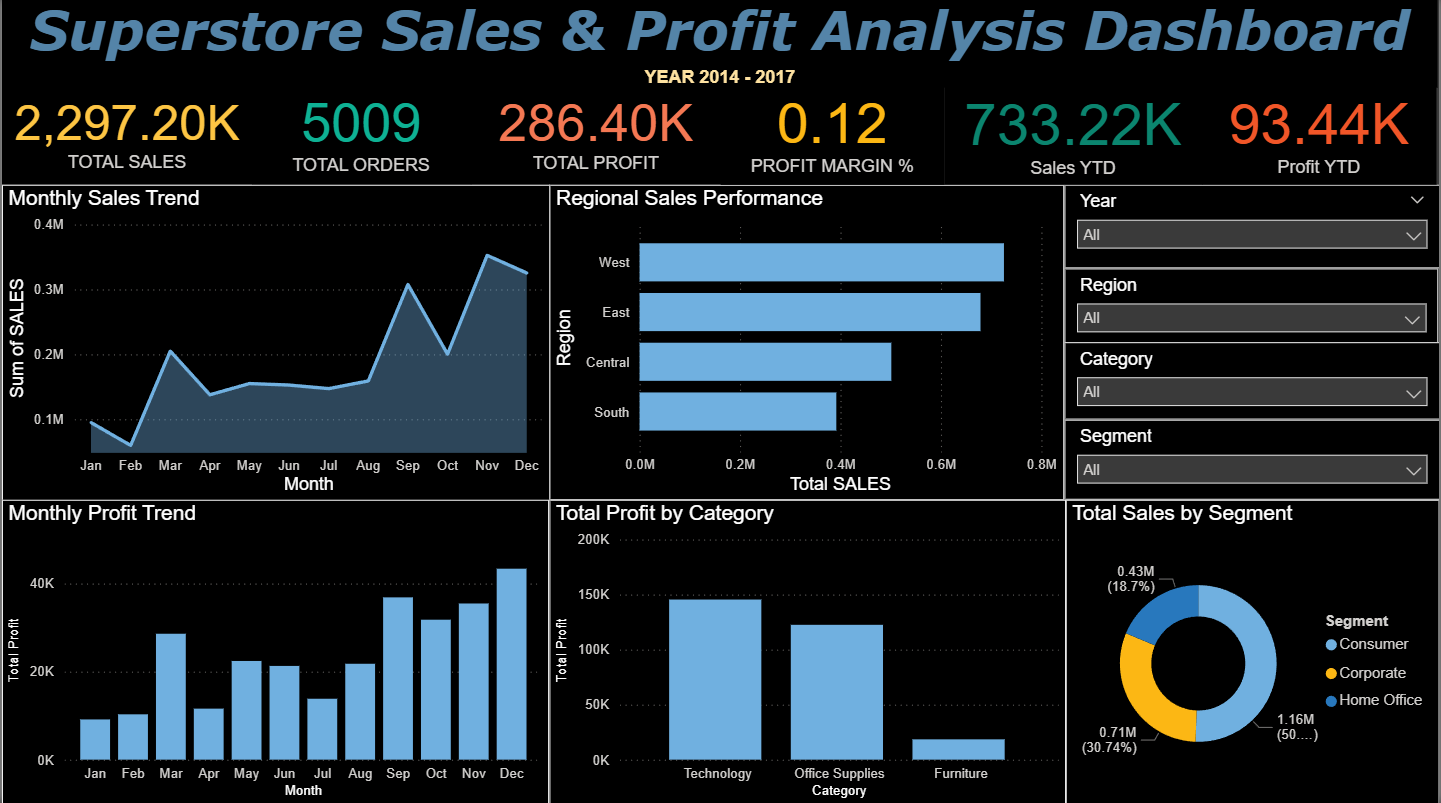

The dashboard page shown, as its layout file describes it:
{"tool":"powerbi","page":{"name":"Dashboard1","canvas":[1280,720],"ordinal":0},"visuals":[{"type":"card","fields":{"Values":["Sum(Orders.TOTAL SALES)"]},"box":[0,70,223.2,97.7],"z":0},{"type":"card","fields":{"Values":["Sum(Orders.Profit)"]},"box":[417.4,68.8,223.2,98.9],"z":1000},{"type":"stackedAreaChart","title":"Monthly Sales Trend","fields":{"Category":["Date Table.Month"],"Y":["Sum(Orders.SALES)"]},"box":[0,167.6,487.8,281.8],"z":2000},{"type":"clusteredColumnChart","title":"Monthly Profit Trend","fields":{"Category":["Date Table.Month"],"Y":["Sum(Orders.Total Profit)"]},"box":[0,448.8,487.4,271.4],"z":3000},{"type":"clusteredBarChart","title":"Regional Sales Performance","fields":{"Category":["Orders.Region"],"Y":["Sum(Orders.SALES)"]},"box":[487.4,167.7,458.4,281.1],"z":4000},{"type":"donutChart","fields":{"Y":["Sum(Orders.TOTAL SALES)"],"Category":["Orders.Segment"]},"box":[947.3,448.6,332.8,271.6],"z":5000},{"type":"slicer","fields":{"Values":["Date Table.Year"]},"box":[945.8,167.7,334.2,74.8],"z":6000},{"type":"slicer","fields":{"Values":["Orders.Region"]},"box":[945.8,242.5,333,66.4],"z":7000},{"type":"slicer","fields":{"Values":["Orders.Category"]},"box":[945.8,308.8,334.2,68.8],"z":8000},{"type":"slicer","fields":{"Values":["Orders.Segment"]},"box":[945.8,377.6,334.2,71.2],"z":9000},{"type":"card","fields":{"Values":["Date Table.TOTAL ORDERS"]},"box":[222.6,70.1,194.8,98],"z":10000},{"type":"card","fields":{"Values":["Date Table.PROFIT MARGIN %"]},"box":[640.6,68.8,199.1,98.9],"z":11000},{"type":"card","fields":{"Values":["Date Table.Sales YTD"]},"box":[839.3,71.2,229.3,96.8],"z":12000},{"type":"card","fields":{"Values":["Date Table.Profit YTD"]},"box":[1068.7,70.8,208.5,96.8],"z":13000},{"type":"lineClusteredColumnComboChart","fields":{"Category":["Orders.Category"],"Y":["Sum(Orders.Total Profit)"]},"box":[487.4,448.8,459.7,271.4],"z":14000},{"type":"textbox","title":"Superstore Sales & Profit Analysis Dashboard","box":[0,0,1278.6,81.4],"z":15000}]}

Visuals, with their boxes in screenshot pixels (x1, y1, x2, y2), scaled from the page's 1280x720 canvas onto the 1441x803 screenshot:
card - Sum(Orders.TOTAL SALES): BBox(0, 78, 251, 187)
card - Sum(Orders.Profit): BBox(470, 77, 721, 187)
"Monthly Sales Trend" stackedAreaChart: BBox(0, 187, 549, 501)
"Monthly Profit Trend" clusteredColumnChart: BBox(0, 501, 549, 802)
"Regional Sales Performance" clusteredBarChart: BBox(549, 187, 1065, 501)
donutChart - Sum(Orders.TOTAL SALES) x Orders.Segment: BBox(1066, 500, 1440, 802)
slicer - Date Table.Year: BBox(1065, 187, 1440, 270)
slicer - Orders.Region: BBox(1065, 270, 1440, 345)
slicer - Orders.Category: BBox(1065, 344, 1440, 421)
slicer - Orders.Segment: BBox(1065, 421, 1440, 501)
card - Date Table.TOTAL ORDERS: BBox(251, 78, 470, 187)
card - Date Table.PROFIT MARGIN %: BBox(721, 77, 945, 187)
card - Date Table.Sales YTD: BBox(945, 79, 1203, 187)
card - Date Table.Profit YTD: BBox(1203, 79, 1438, 187)
lineClusteredColumnComboChart - Orders.Category x Sum(Orders.Total Profit): BBox(549, 501, 1066, 802)
"Superstore Sales & Profit Analysis Dashboard" textbox: BBox(0, 0, 1439, 91)
